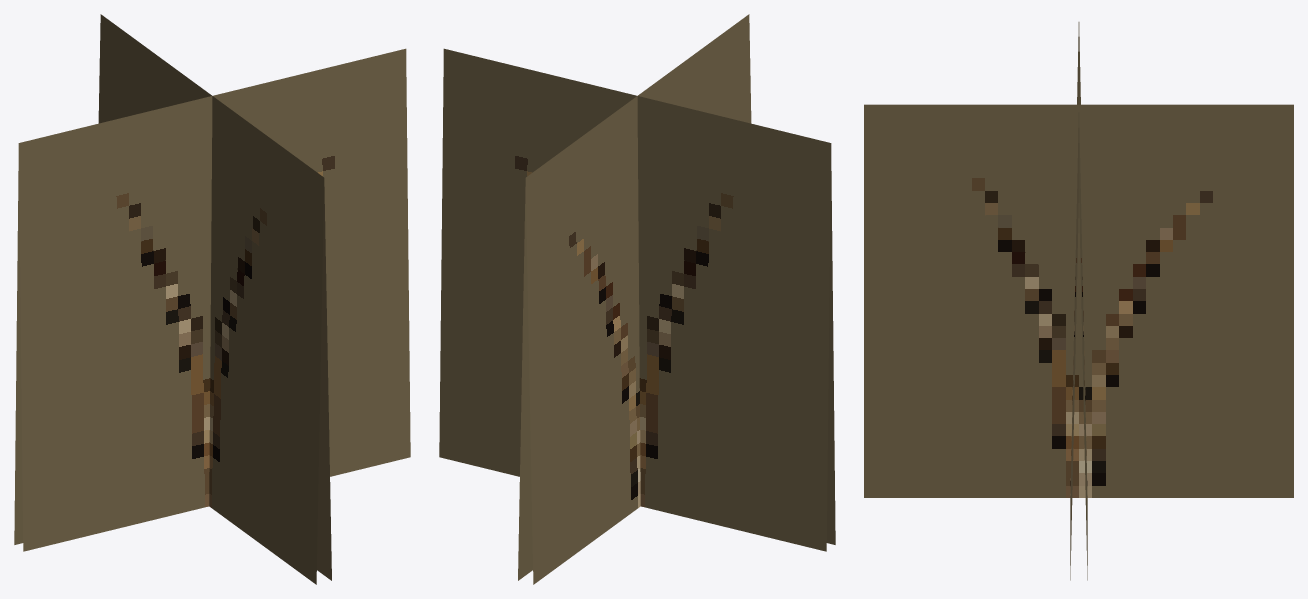
The model's file is grass08_fall.glb.
The picture shows the model from 3 angles, left to right: view 1: azimuth 30°, elevation 25°; view 2: azimuth 150°, elevation 25°; view 3: azimuth 270°, elevation 25°; orthographic projection. The views are drawn at different scales.
Visible parts, largest first — view 1: grass08; view 2: grass08; view 3: grass08.
Boxes of the visible parts, x1,y1,x2,y2 form: grass08: (14,14,410,584); grass08: (439,14,835,584); grass08: (864,22,1293,580).
Bounding box in the file's own units: 0.4 × 0.4 × 0.4.
1 material, 1 textured.
